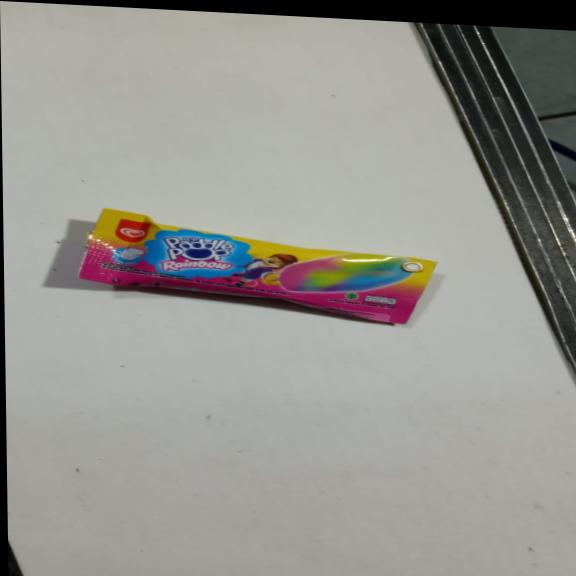Plastik: (75, 205, 442, 326)
